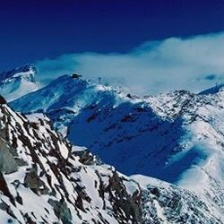neutral: (2, 17, 224, 217)
